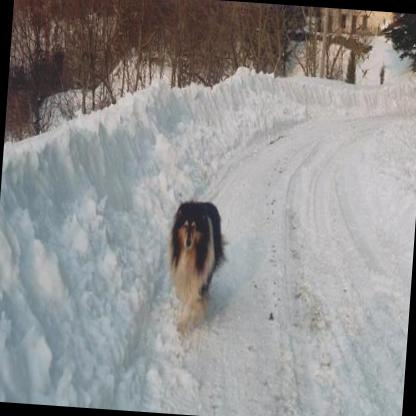collie: (161, 198, 226, 336)
